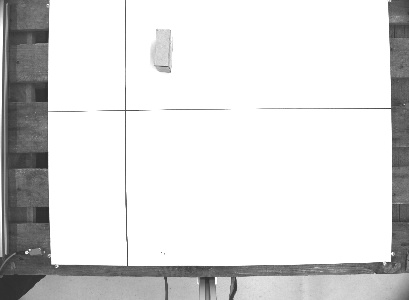b1: (152, 26, 176, 75)
